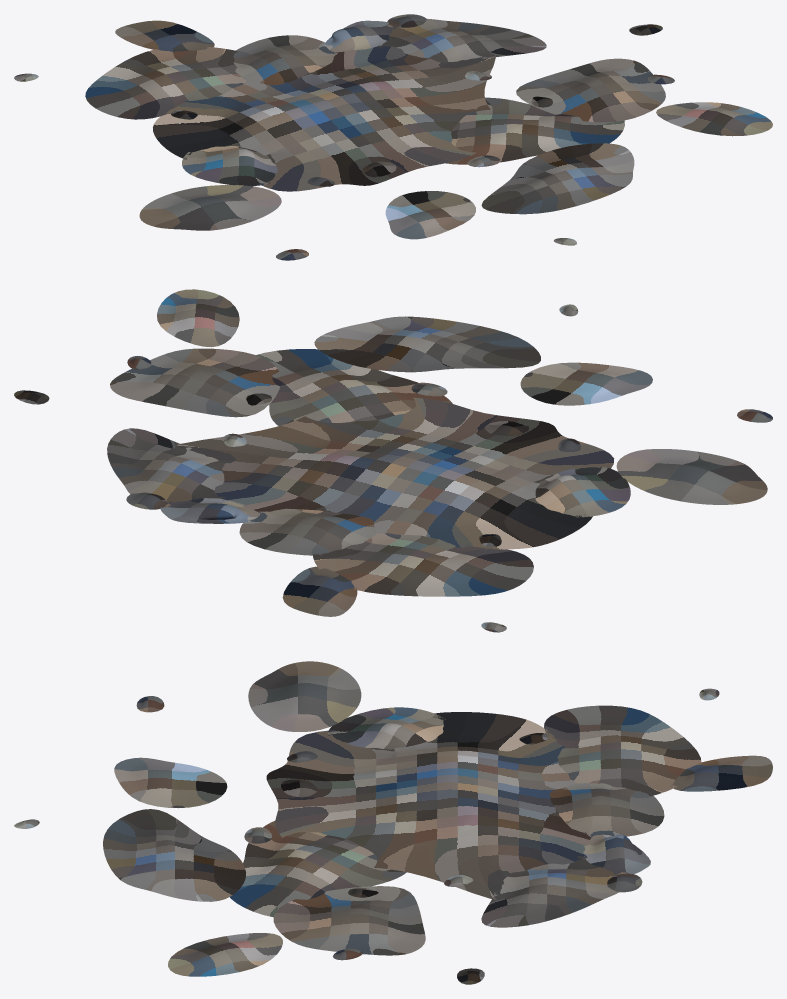
Rendered from Trash_Scatter_A.FBX.
3 renders of one model, top to bottom at view 1: azimuth 30°, elevation 25°; view 2: azimuth 150°, elevation 25°; view 3: azimuth 270°, elevation 25°, orthographic. The views are drawn at different scales.
Parts seen in each view (by area): view 1: Geometry_Trash_Scatter_A_LOD00; view 2: Geometry_Trash_Scatter_A_LOD00; view 3: Geometry_Trash_Scatter_A_LOD00.
Part boxes in pixels (x1,y1,x2,y2): Geometry_Trash_Scatter_A_LOD00: (14,14,772,260); Geometry_Trash_Scatter_A_LOD00: (14,289,772,632); Geometry_Trash_Scatter_A_LOD00: (14,661,772,984).
Size of what is drawn, in the model's own units: 2084 by 50.39 by 2067.
